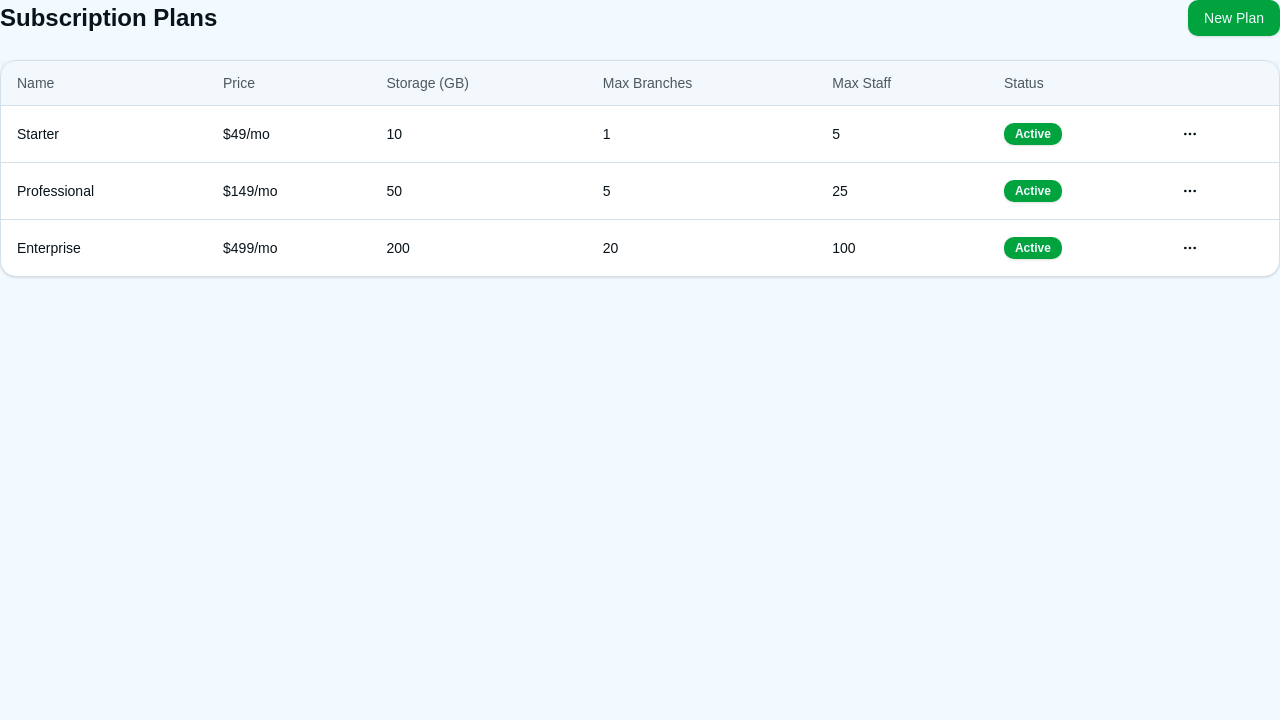
Scenario: PlansPage › shows create form when New Plan clicked
Click the button "New Plan" at (1234, 18), box [1188,0,1279,36]
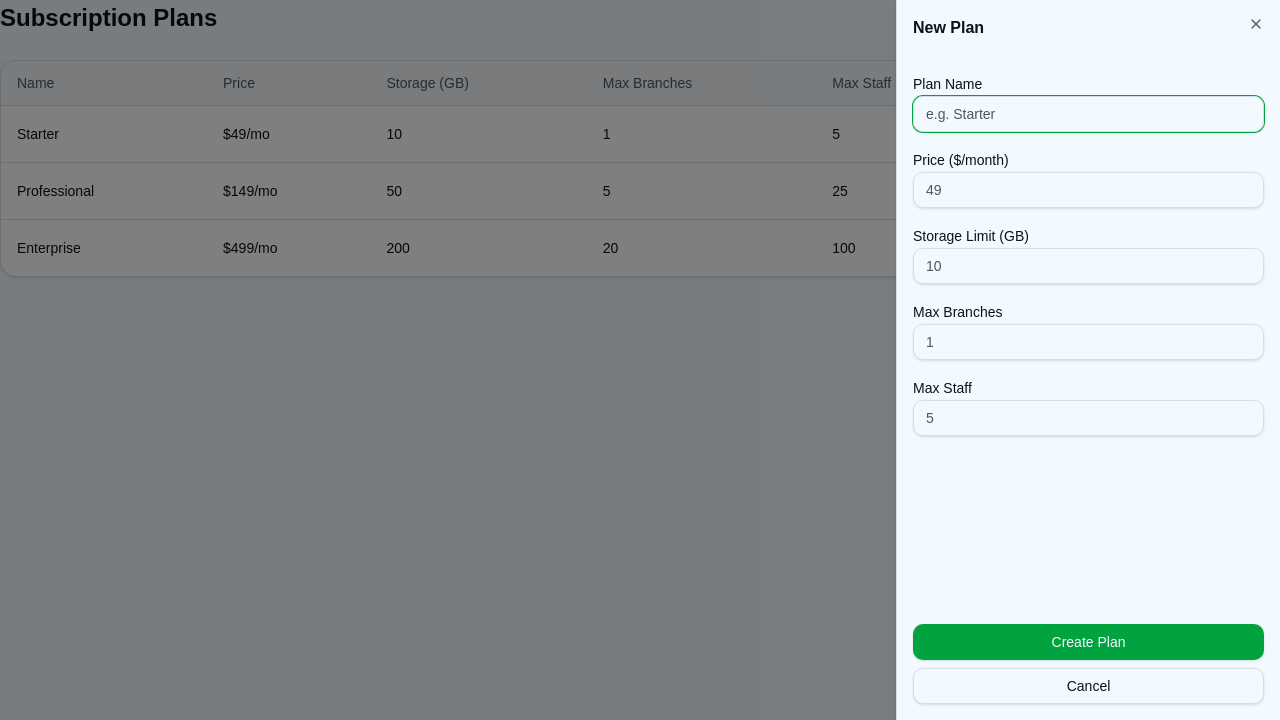
Now the field labelled "Plan Name" is shown, box [913,96,1264,132]
